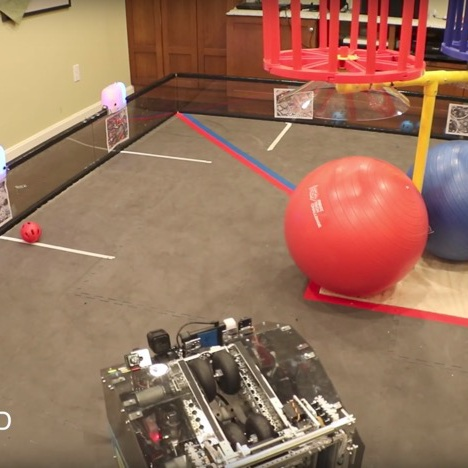ball: (18, 218, 42, 244)
robot: (95, 315, 364, 468)
yogaball: (287, 154, 432, 301), (408, 139, 468, 265)
